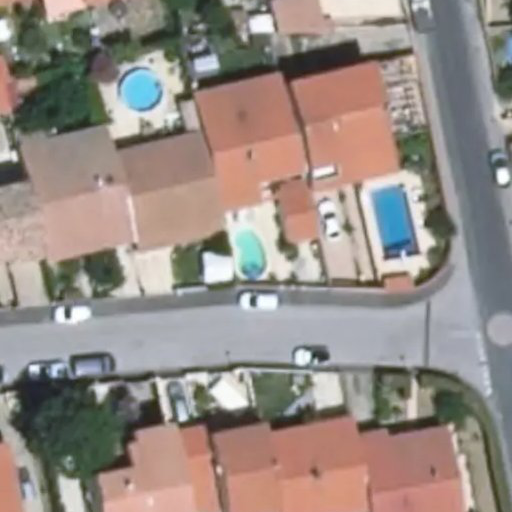pool: (237, 222, 274, 260)
